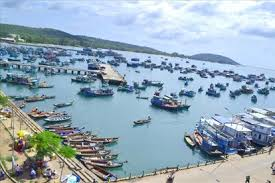tau_dansu: (203, 115, 252, 156), (192, 130, 222, 160), (151, 94, 178, 112), (79, 85, 116, 98), (69, 74, 97, 87), (134, 111, 155, 128), (204, 80, 221, 98), (26, 90, 46, 105), (144, 76, 165, 88), (53, 97, 76, 107), (182, 87, 195, 99)
